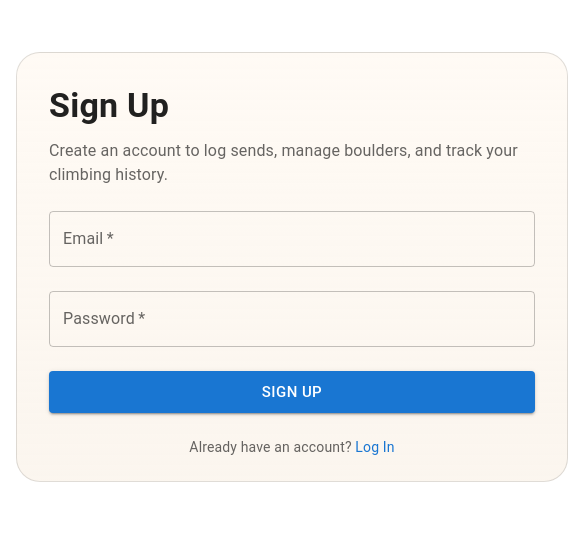
Test: Register Page › should show error if registration fails
This screenshot has width=585, height=535.
Type "test@test.com" into the field labelled "Email *".
click(292, 239); type("test@test.com")  # box [49,211,535,267]
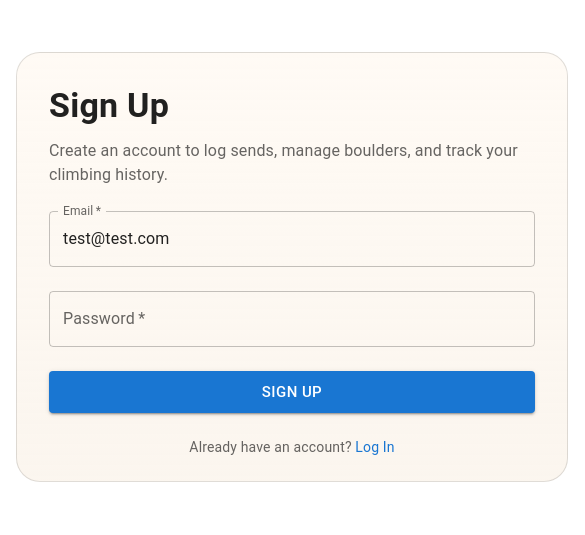
Type "password123" into the password field labelled "Password *".
click(292, 319); type("password123")  # box [49,291,535,347]
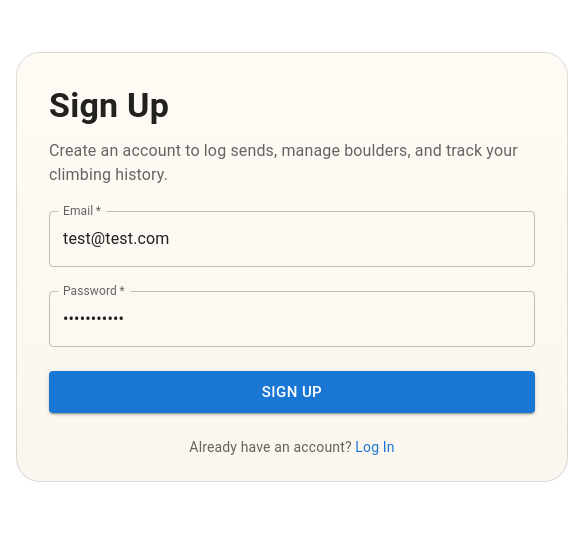
Click the button "Sign Up".
click(292, 392)  # box [49,371,535,413]
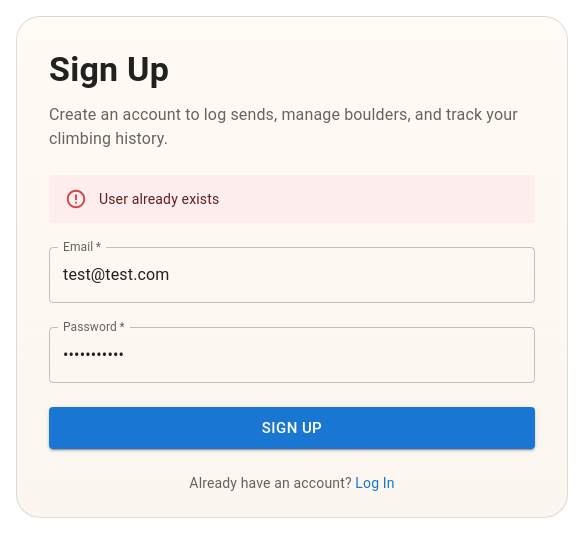
Result: the text "User already exists" is shown at [99,191,219,207]
